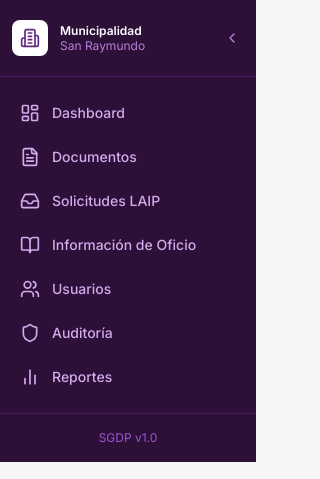
Scenario: Sidebar › colapsa y expande el menú al hacer clic en el toggle
What coordinates should you click on to do the following:
click the button titled "Contraer menú"
I would click on:
 (232, 38)
Its box is [220, 26, 244, 50].
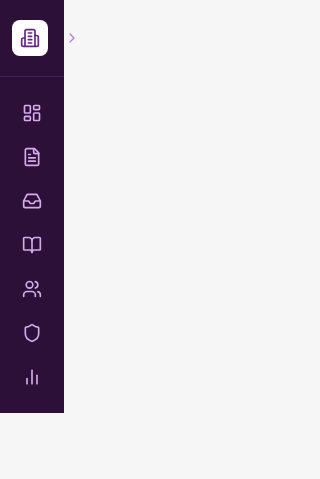
Check: the button titled "Expandir menú" is shown, box [60, 26, 84, 50]
